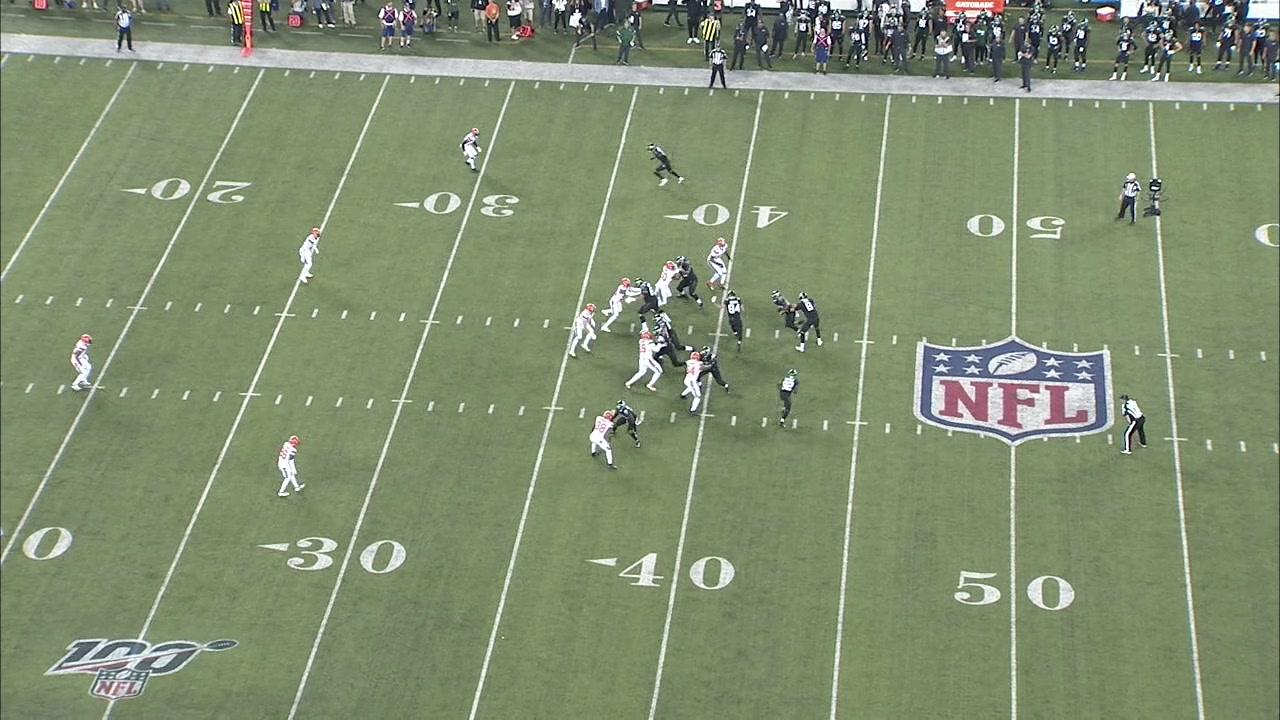defense: (598, 277, 642, 338), (625, 329, 661, 395), (273, 437, 306, 500), (588, 408, 620, 471), (568, 301, 598, 363), (66, 334, 99, 390), (649, 259, 680, 315), (705, 237, 735, 292), (296, 225, 323, 286), (681, 348, 702, 416), (459, 127, 483, 172)
oline: (634, 277, 671, 331), (693, 345, 731, 396), (672, 255, 707, 310), (649, 326, 688, 369), (654, 315, 695, 351)
qb: (781, 290, 826, 354)
ref: (1116, 392, 1153, 459), (1117, 172, 1144, 229), (112, 9, 141, 56), (707, 49, 736, 93)
skill: (647, 143, 686, 188), (775, 366, 801, 430), (612, 399, 643, 450), (767, 290, 801, 336), (722, 289, 746, 354)
